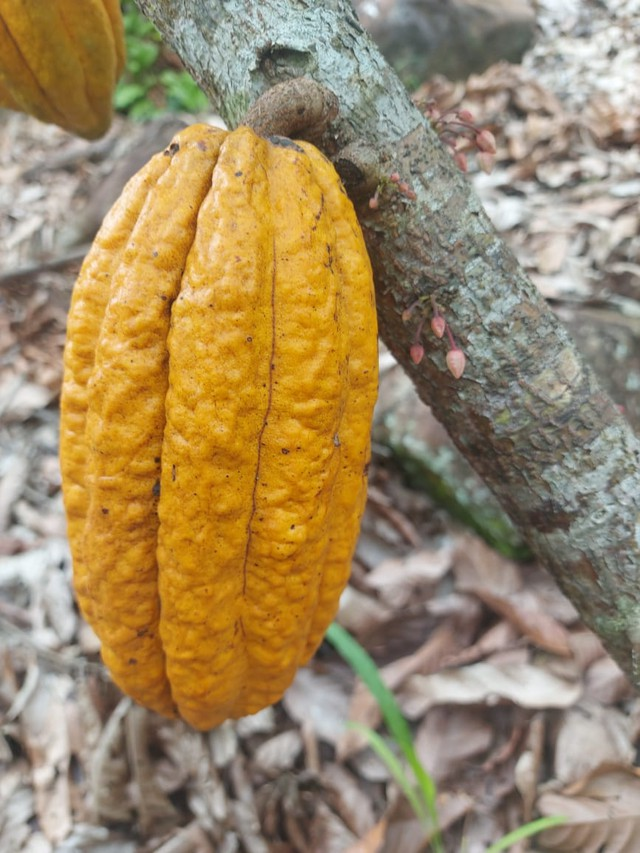Health: (27, 114, 402, 739)
